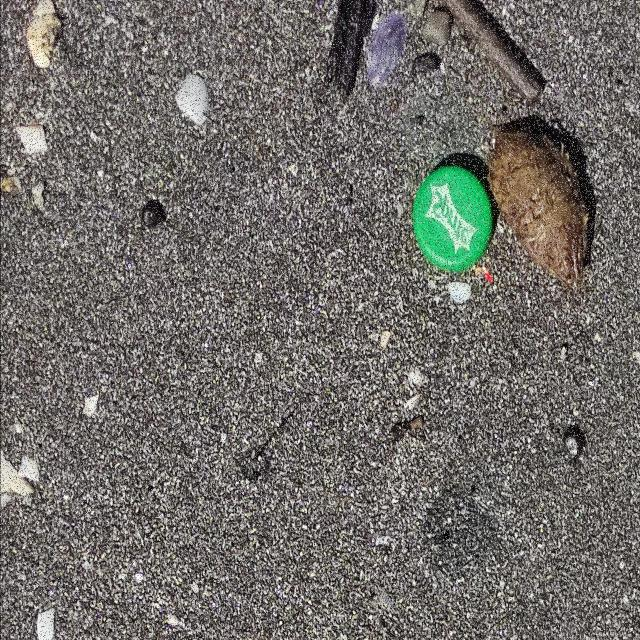plastic_waste: (411, 166, 492, 275)
